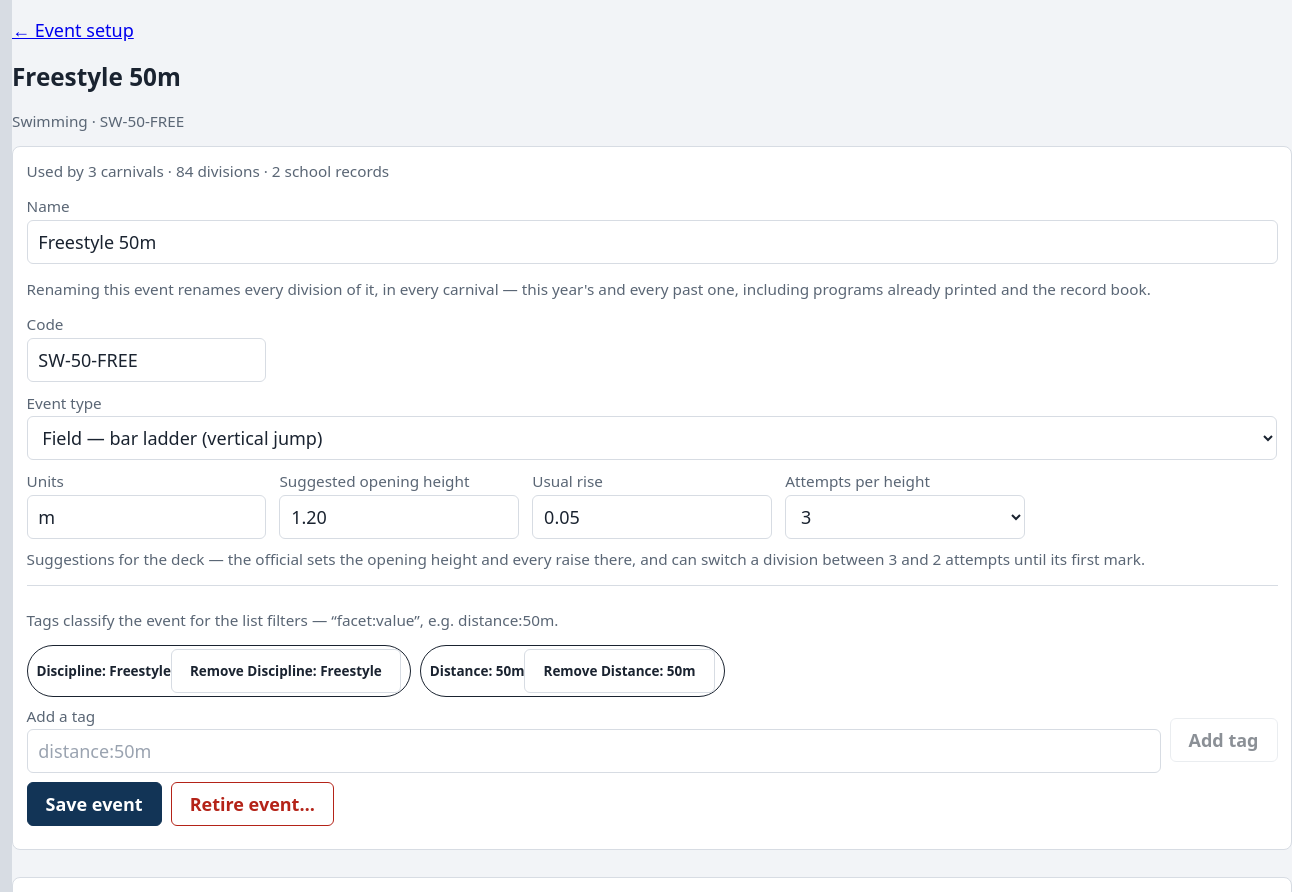
Test: EventEditorScreen › refuses a half-filled ladder in the form, before the server has to
Clear the number field labelled "Usual rise" at (652, 517), box [532, 495, 772, 539]
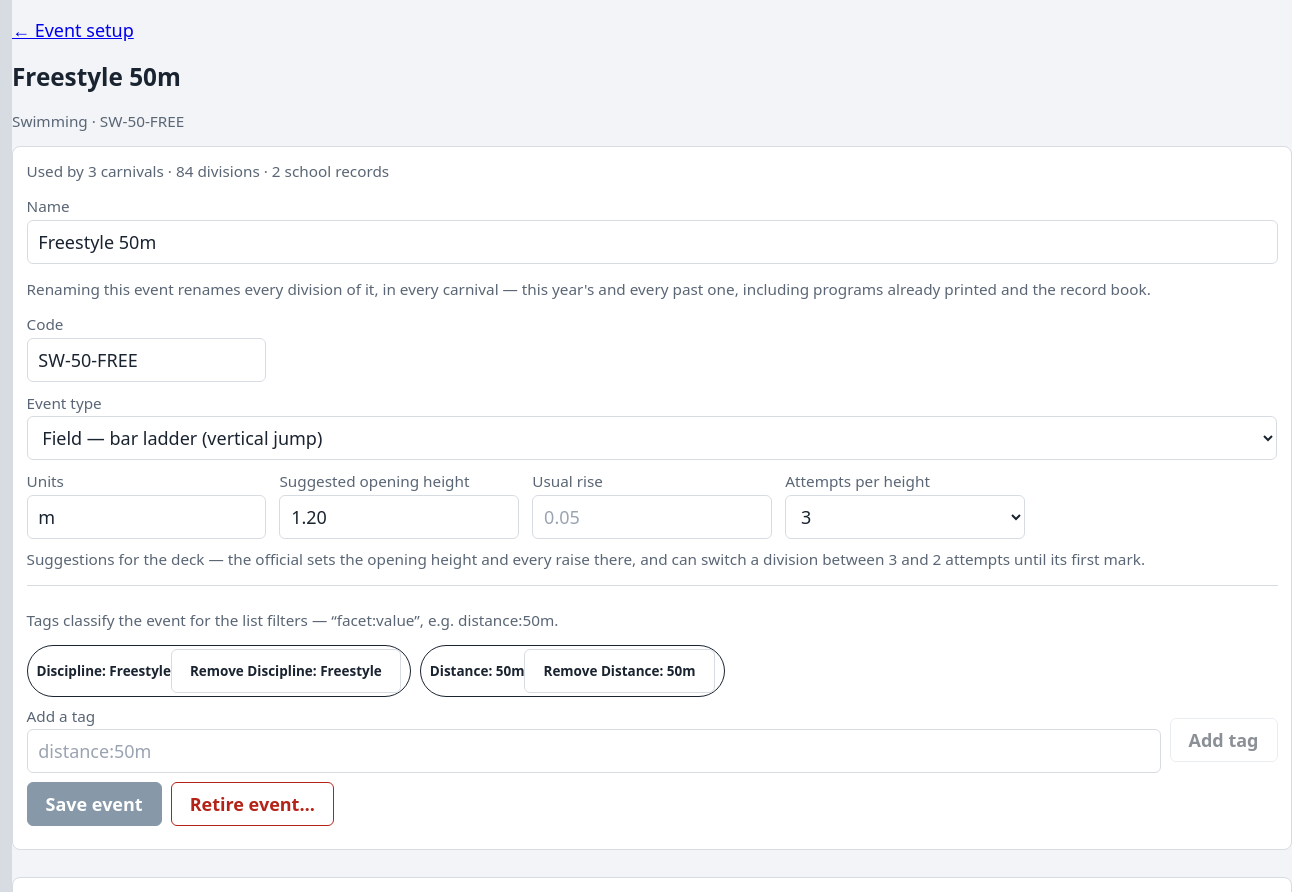
Result: the button "Save event" is disabled at [26, 782, 162, 826]
